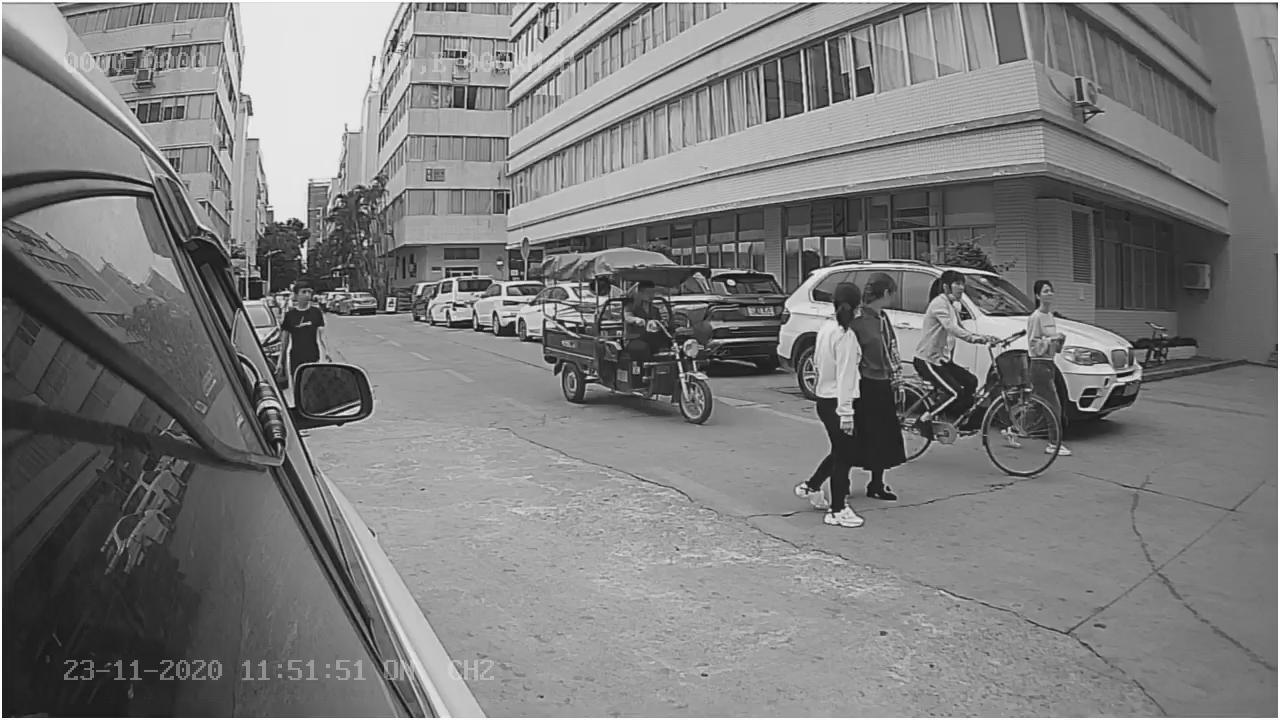person: (794, 284, 874, 529), (921, 263, 1003, 352)
